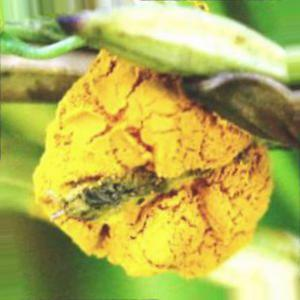Leaf_Scald: (98, 56, 201, 259), (205, 114, 266, 254), (39, 77, 94, 219), (70, 226, 220, 271)
